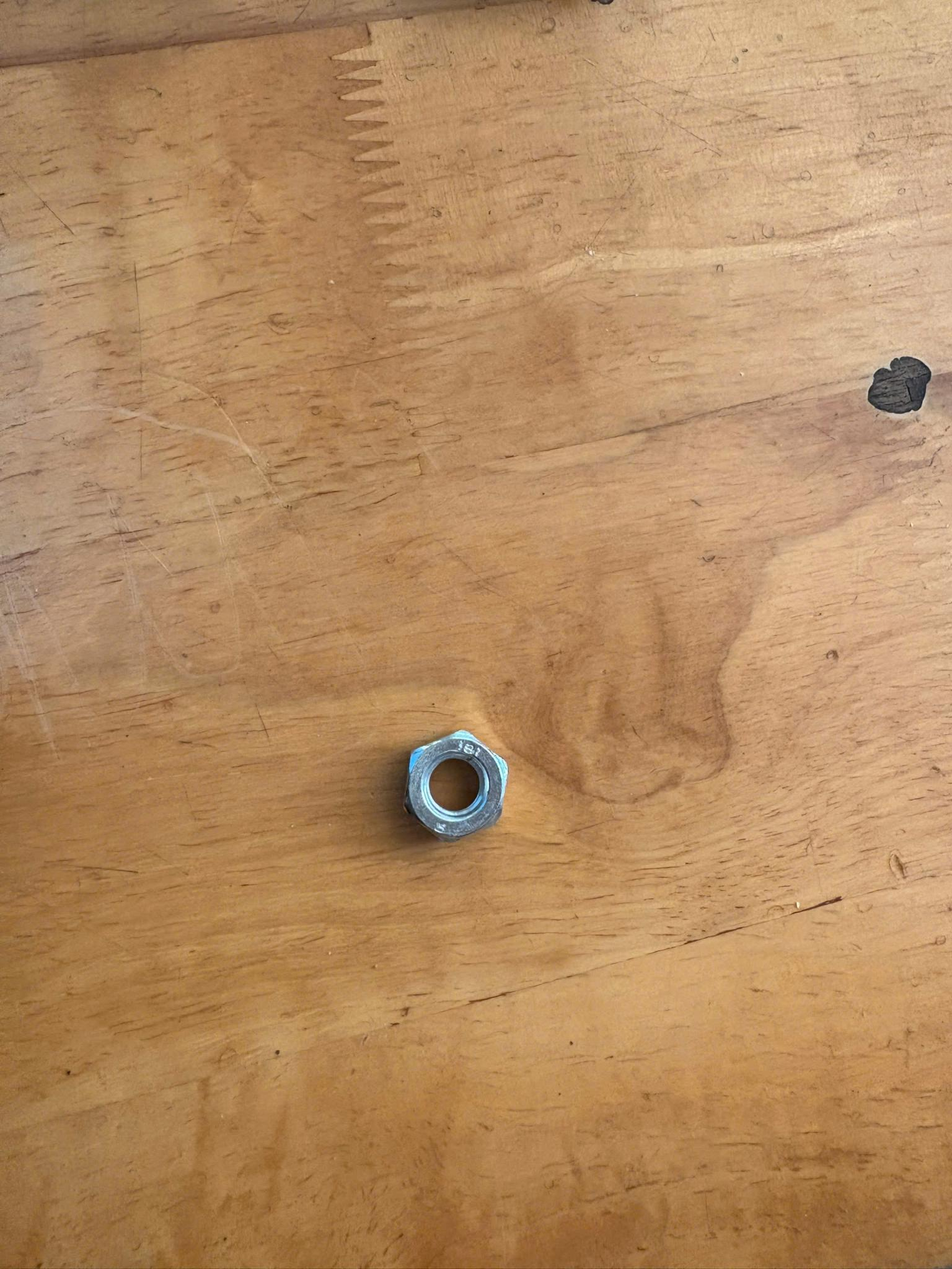nut: (387, 722, 532, 859)
